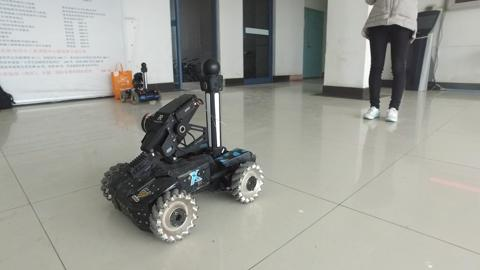chariot: (95, 58, 290, 247), (114, 61, 162, 107)
